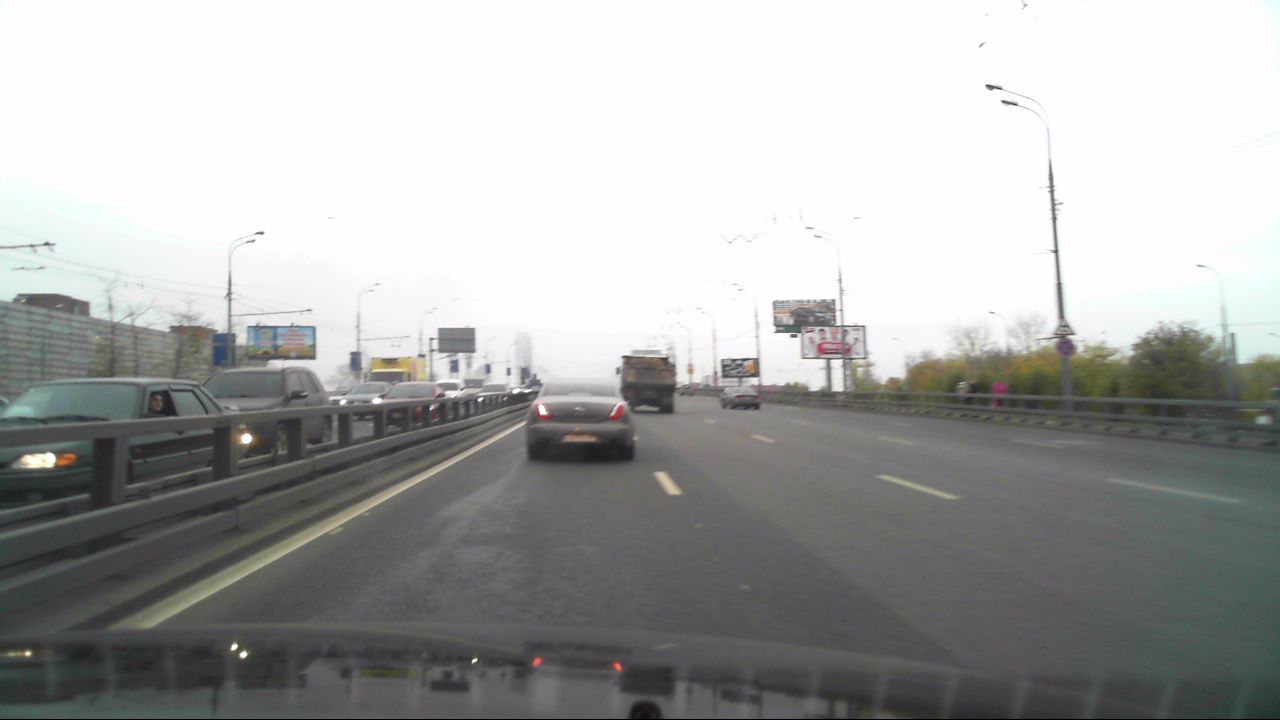No Parking: (1056, 339, 1074, 356)
